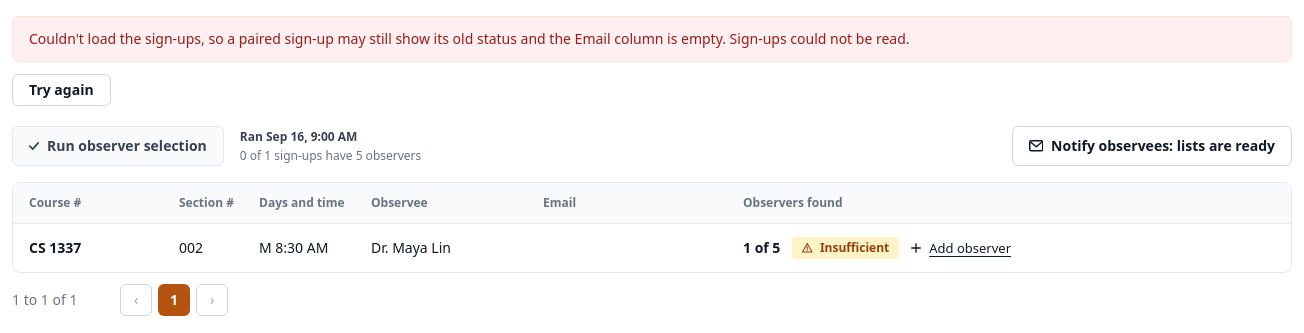
Scenario: Sign-ups after pairing and hand-added observers › hides the attention banner while the sign-ups cannot be read, and Try again brings the pairing back
Check: the text "Couldn't load the sign-ups" is shown, box [29,29,910,48]
Click the button "Try again". click: (61,90)
box: [12,74,111,106]
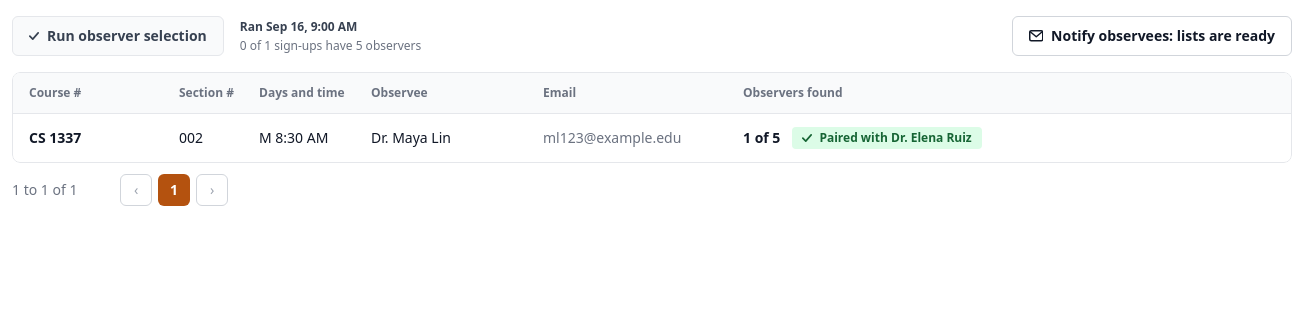
Check: the text "Couldn't load the sign-ups" is gone
